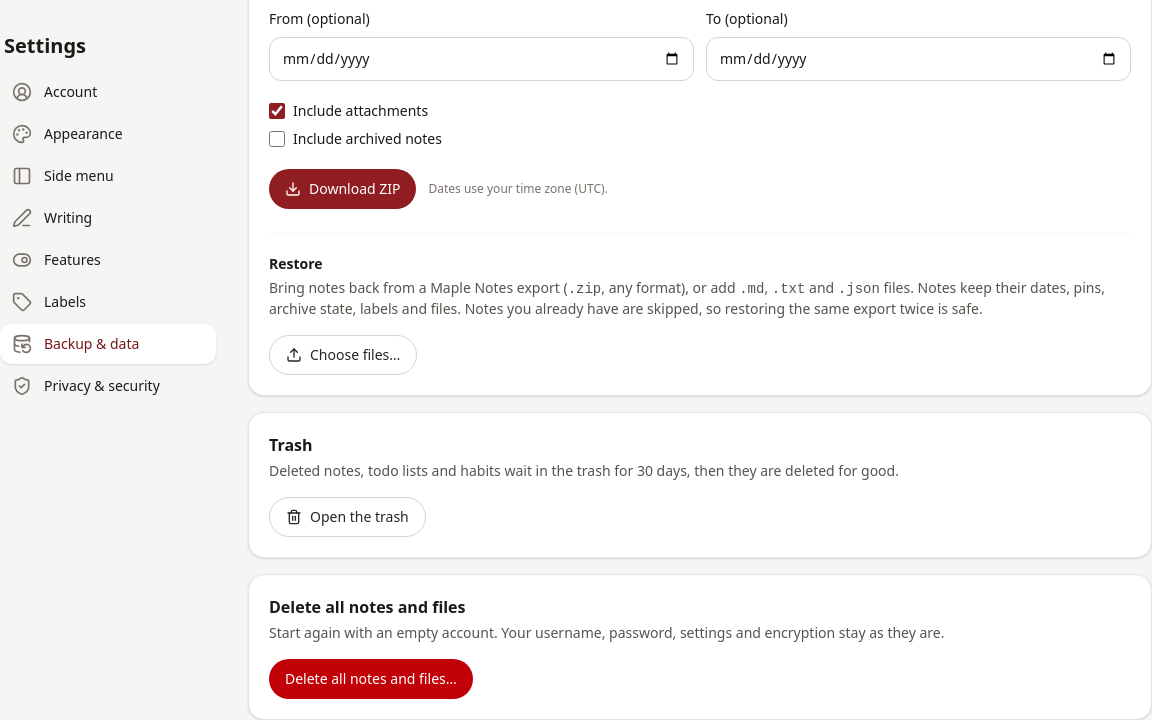
Test: Settings › deletes all notes and files after the password, and the account stays signed in
(page scrolled)
Click the button "Delete all notes and files…" at (371, 679), box 269,659 -> 473,699
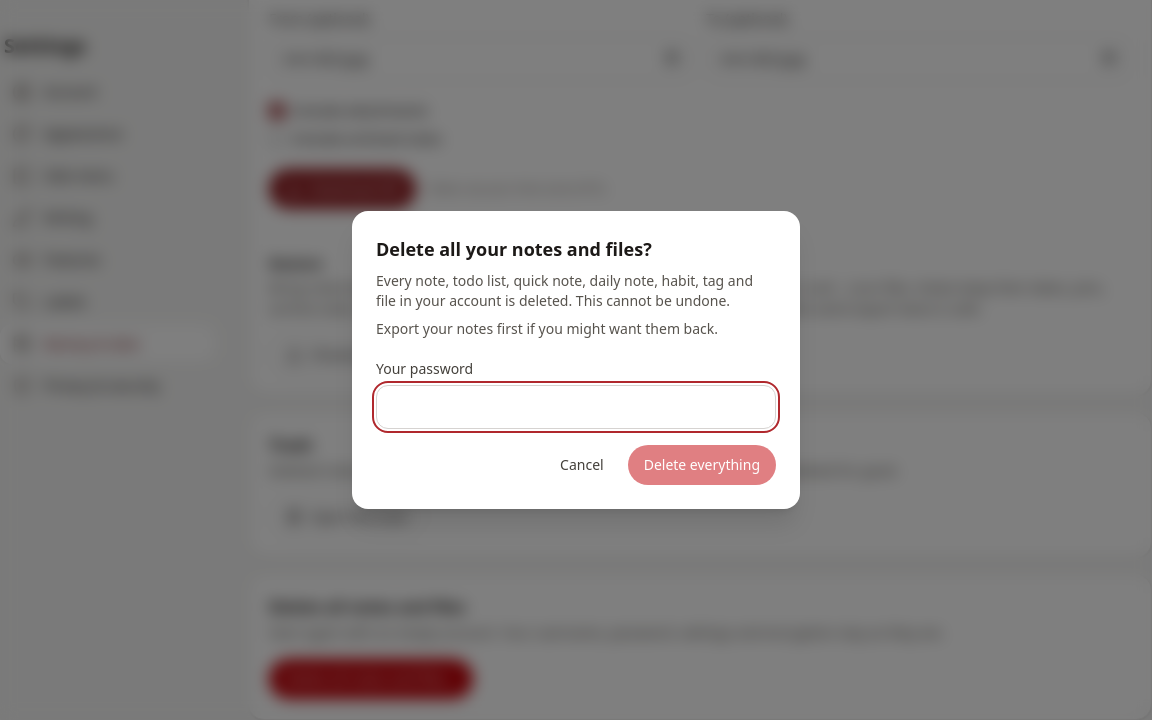
Expected: the dialog "Delete all your notes and files?" is shown, 352,211 -> 800,509
Type "correct horse battery staple" into the password field labelled "Your password" at (576, 407), box 376,385 -> 776,429
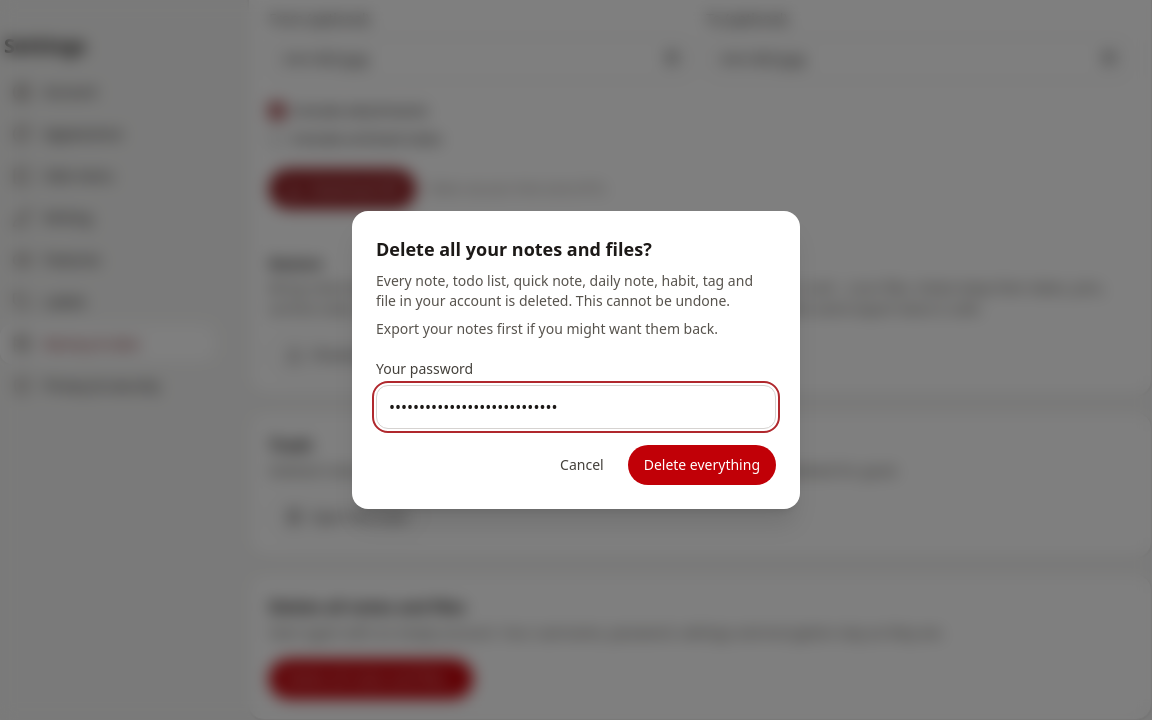
Click the button "Delete everything" at (702, 465), box 628,445 -> 776,485
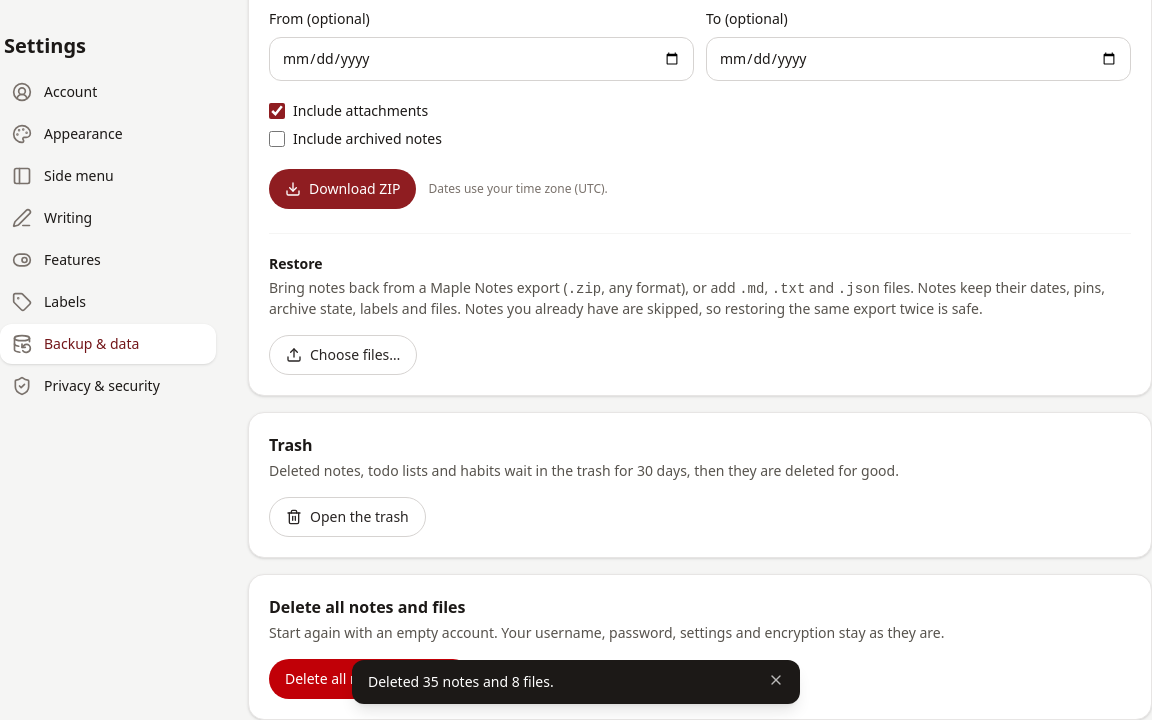
Expected: the text "Deleted 35 notes and 8 files." is shown, 368,672 -> 554,691
Expected: the dialog is gone
